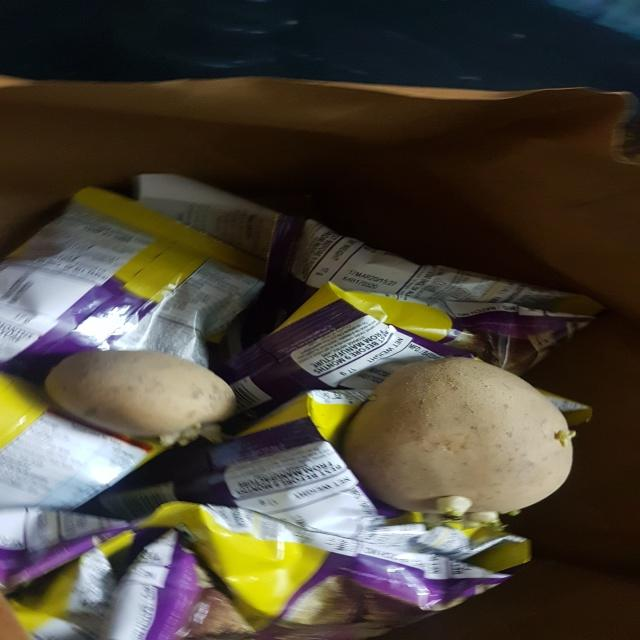potato: (338, 350, 582, 533), (41, 336, 251, 452)
